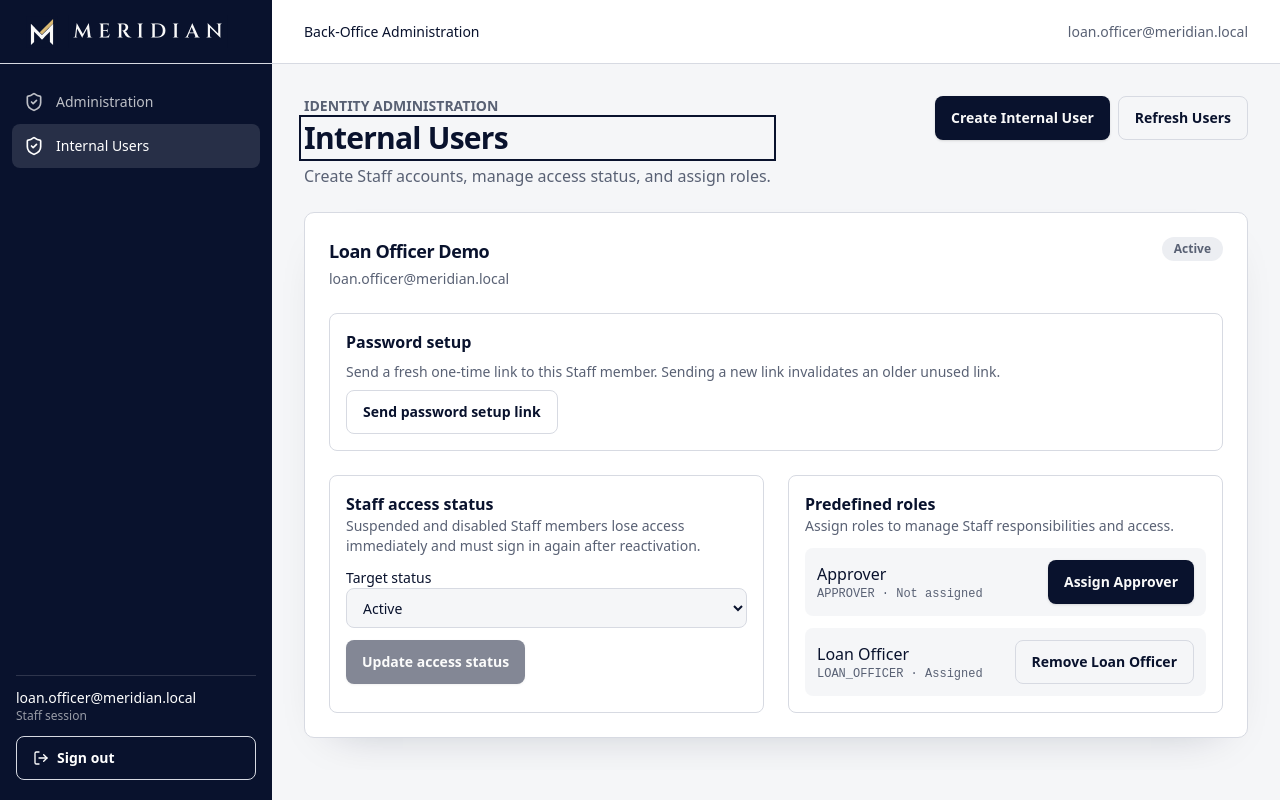
Test: Internal User administration page › sends a setup link only on an explicit action and never retries an unknown result
Expected: the heading "Loan Officer Demo" is shown, [329,237,509,265]
What coordinates should you click on to do the following:
click the button "Send password setup link"
I would click on:
 (452, 412)
Its box is [346,390,558,434].
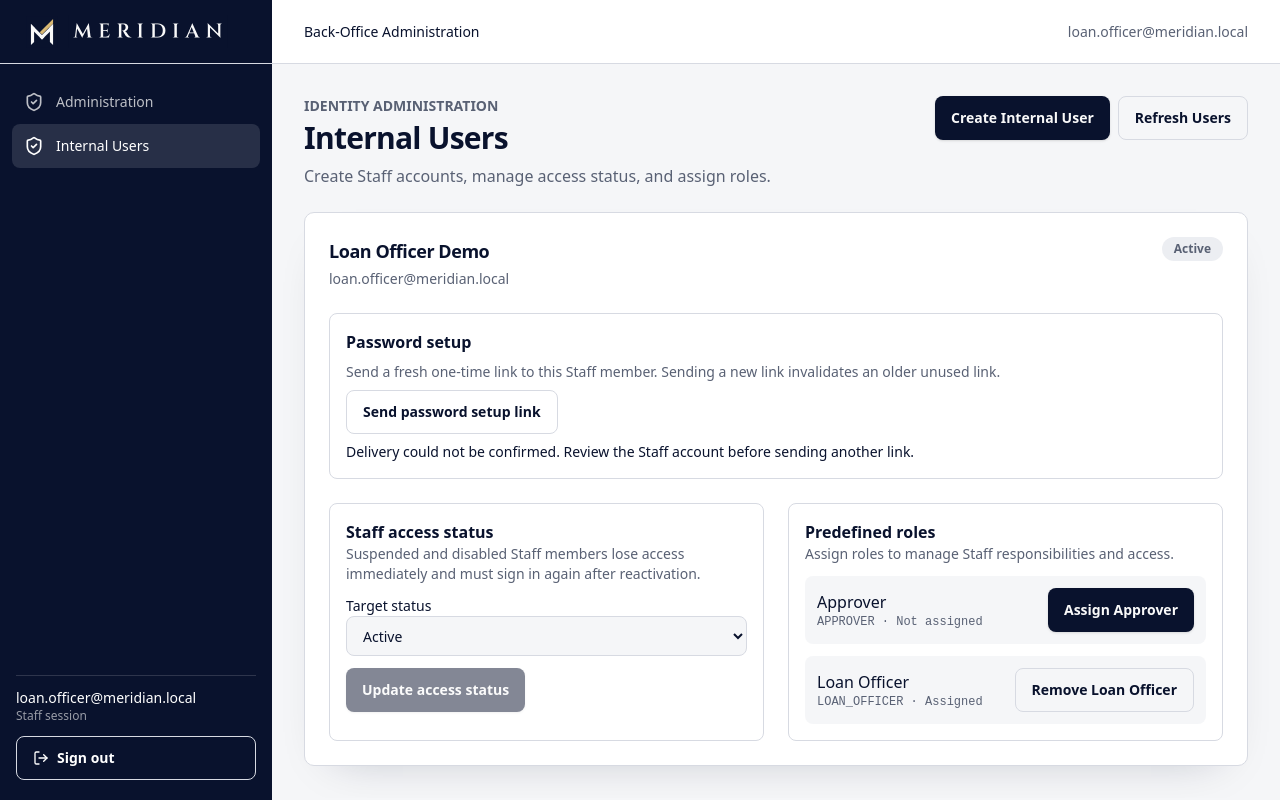
Expected: the text "Delivery could not be confirmed" is shown, [346,442,914,461]
